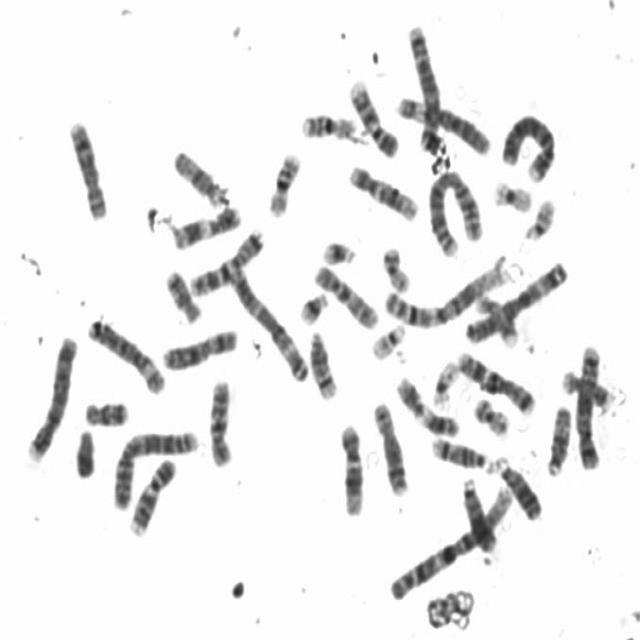A1: (385, 481, 514, 604), (382, 256, 511, 330)
A2: (109, 426, 200, 512), (424, 165, 484, 259)
A3: (226, 262, 310, 383), (460, 258, 570, 346)
B4: (22, 331, 78, 463), (497, 109, 557, 184)
B5: (404, 22, 443, 155), (573, 343, 603, 470)
C10: (311, 260, 380, 332), (205, 376, 236, 469)
C11: (392, 373, 460, 439), (168, 200, 243, 252)
C12: (345, 160, 420, 224), (336, 420, 366, 518)
C6: (84, 314, 166, 396), (394, 91, 493, 156)
C7: (186, 226, 266, 298), (454, 347, 536, 417)
C8: (64, 115, 109, 223), (370, 399, 409, 498)
C9: (346, 76, 399, 160), (126, 455, 177, 537)
D13: (458, 473, 498, 554), (494, 457, 542, 521)
D14: (428, 434, 496, 473), (306, 327, 340, 401)
D15: (170, 146, 229, 208), (543, 402, 573, 478)
E16: (264, 147, 303, 220), (298, 109, 357, 143)
E17: (472, 290, 518, 349), (558, 366, 614, 412)
E18: (164, 267, 202, 325), (82, 398, 130, 429)
F19: (429, 356, 460, 410), (491, 177, 533, 216)
F20: (470, 392, 510, 438), (379, 242, 412, 294)
G21: (296, 287, 330, 326), (320, 236, 358, 267)
G22: (521, 196, 556, 242), (368, 320, 407, 361)
X: (159, 325, 240, 372)
Y: (72, 425, 96, 479)
